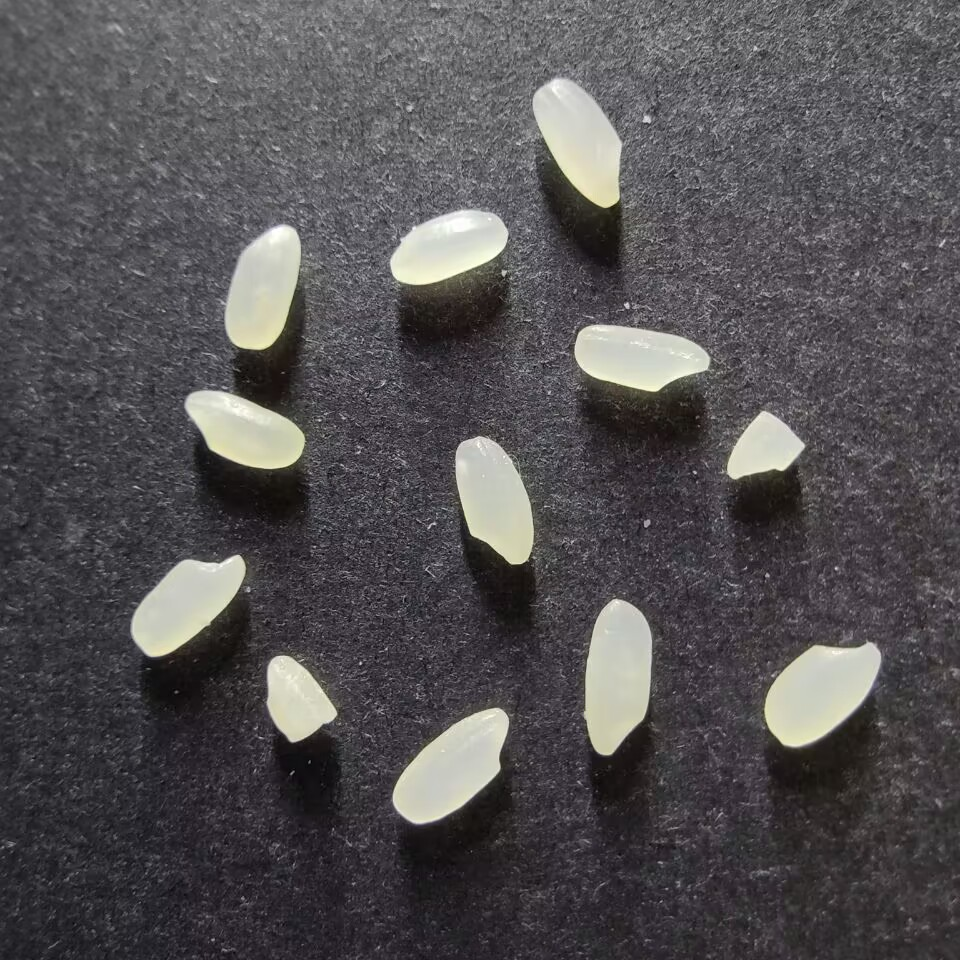broken: (265, 653, 340, 744), (725, 410, 807, 480)
rice: (390, 706, 510, 825), (762, 638, 883, 748), (128, 551, 248, 658), (531, 75, 625, 210), (582, 597, 654, 756), (452, 435, 536, 567), (222, 222, 303, 350), (183, 388, 306, 470), (572, 322, 710, 394), (388, 208, 510, 286)
